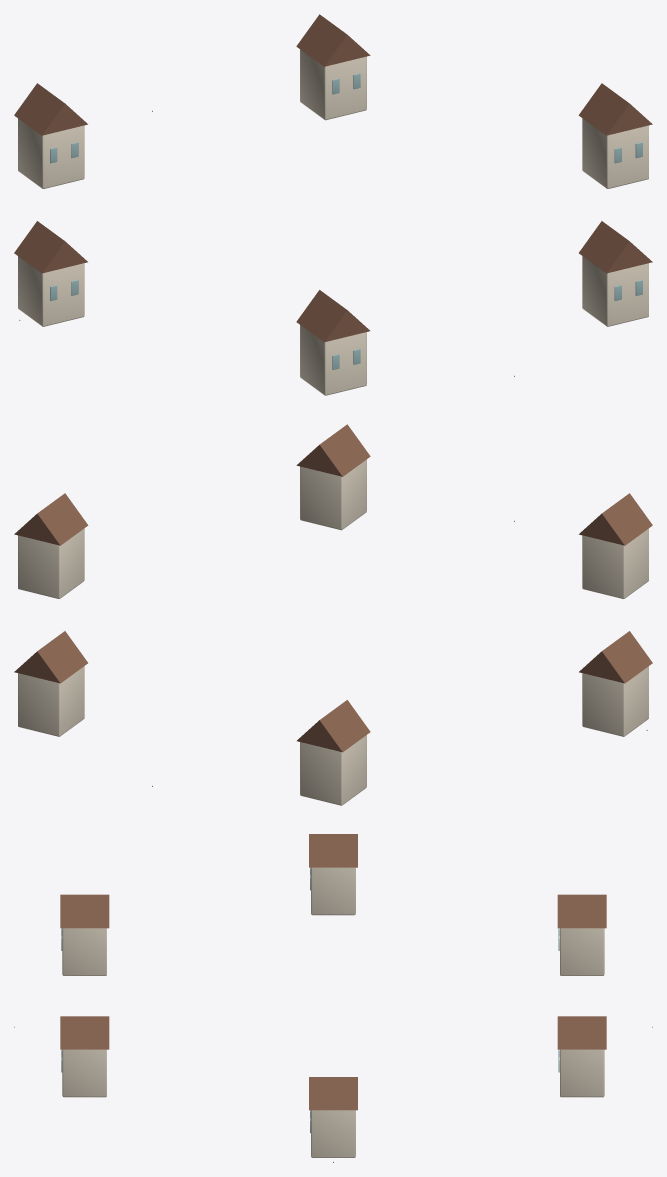
File: backdrop-suburban.glb
3 renders of one model, top to bottom at view 1: azimuth 30°, elevation 25°; view 2: azimuth 150°, elevation 25°; view 3: azimuth 270°, elevation 25°, orthographic. The views are drawn at different scales.
Visible parts, largest first — view 1: backdrop-suburban; view 2: backdrop-suburban; view 3: backdrop-suburban.
Boxes of the visible parts, x1,y1,x2,y2 form: backdrop-suburban: (14, 14, 652, 395); backdrop-suburban: (14, 424, 652, 805); backdrop-suburban: (14, 834, 652, 1162).
Bounding box in the file's own units: 40 × 5 × 40.
